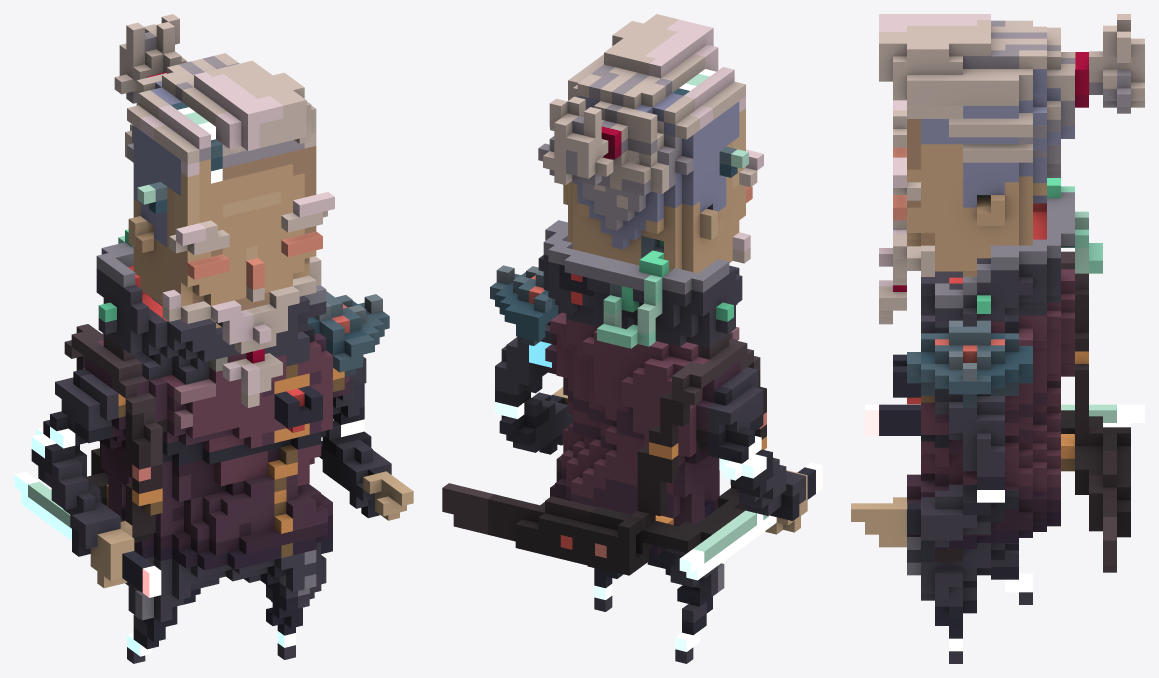
File: samurai-mapped.glb
3 views of the same model, side by side, from view 1: azimuth 30°, elevation 25°; view 2: azimuth 150°, elevation 25°; view 3: azimuth 270°, elevation 25° (orthographic). The views are drawn at different scales.
Visible parts, largest first — view 1: BODY, HEAD, HAIR, FACE, REF-ACC-CYBER-COLLAR, SCABBARD, REF-ACC-PAULDRON, REF-ITM-GLOW-SWORD, REF-ACC-FRONT-CREST, REF-MOD-HEAD; view 2: BODY, HAIR, SCABBARD, HEAD, REF-ACC-CYBER-COLLAR, REF-ACC-PAULDRON, REF-ITM-GLOW-SWORD, FACE, REF-MOD-HEAD; view 3: BODY, HAIR, HEAD, REF-ACC-CYBER-COLLAR, SCABBARD, REF-ACC-PAULDRON, FACE, REF-ITM-GLOW-SWORD, REF-ACC-FRONT-CREST.
Part boxes in pixels (x1=…): BODY: x1=31, y1=319, x2=413, y2=663; HEAD: x1=127, y1=124, x2=316, y2=328; HAIR: x1=114, y1=14, x2=316, y2=164; FACE: x1=162, y1=192, x2=334, y2=407; REF-ACC-CYBER-COLLAR: x1=96, y1=229, x2=326, y2=362; SCABBARD: x1=64, y1=324, x2=162, y2=543; REF-ACC-PAULDRON: x1=307, y1=291, x2=389, y2=376; REF-ITM-GLOW-SWORD: x1=14, y1=472, x2=161, y2=597; REF-ACC-FRONT-CREST: x1=274, y1=385, x2=322, y2=432; REF-MOD-HEAD: x1=137, y1=102, x2=222, y2=213; BODY: x1=495, y1=305, x2=807, y2=663; HAIR: x1=538, y1=14, x2=745, y2=195; SCABBARD: x1=442, y1=333, x2=766, y2=575; HEAD: x1=563, y1=96, x2=745, y2=273; REF-ACC-CYBER-COLLAR: x1=538, y1=220, x2=742, y2=348; REF-ACC-PAULDRON: x1=490, y1=265, x2=558, y2=345; REF-ITM-GLOW-SWORD: x1=679, y1=462, x2=822, y2=580; FACE: x1=732, y1=149, x2=763, y2=263; REF-MOD-HEAD: x1=673, y1=69, x2=748, y2=177; BODY: x1=851, y1=269, x2=1074, y2=663; HAIR: x1=879, y1=14, x2=1144, y2=162; HEAD: x1=907, y1=94, x2=1060, y2=276; REF-ACC-CYBER-COLLAR: x1=921, y1=178, x2=1102, y2=326; SCABBARD: x1=1061, y1=251, x2=1130, y2=572; REF-ACC-PAULDRON: x1=907, y1=320, x2=1032, y2=407; FACE: x1=879, y1=100, x2=934, y2=324; REF-ITM-GLOW-SWORD: x1=865, y1=404, x2=1144, y2=435; REF-ACC-FRONT-CREST: x1=893, y1=354, x2=920, y2=404.
Size of the model in its own units: 2.6 by 4.8 by 2.1.
13 materials, 11 textured.
